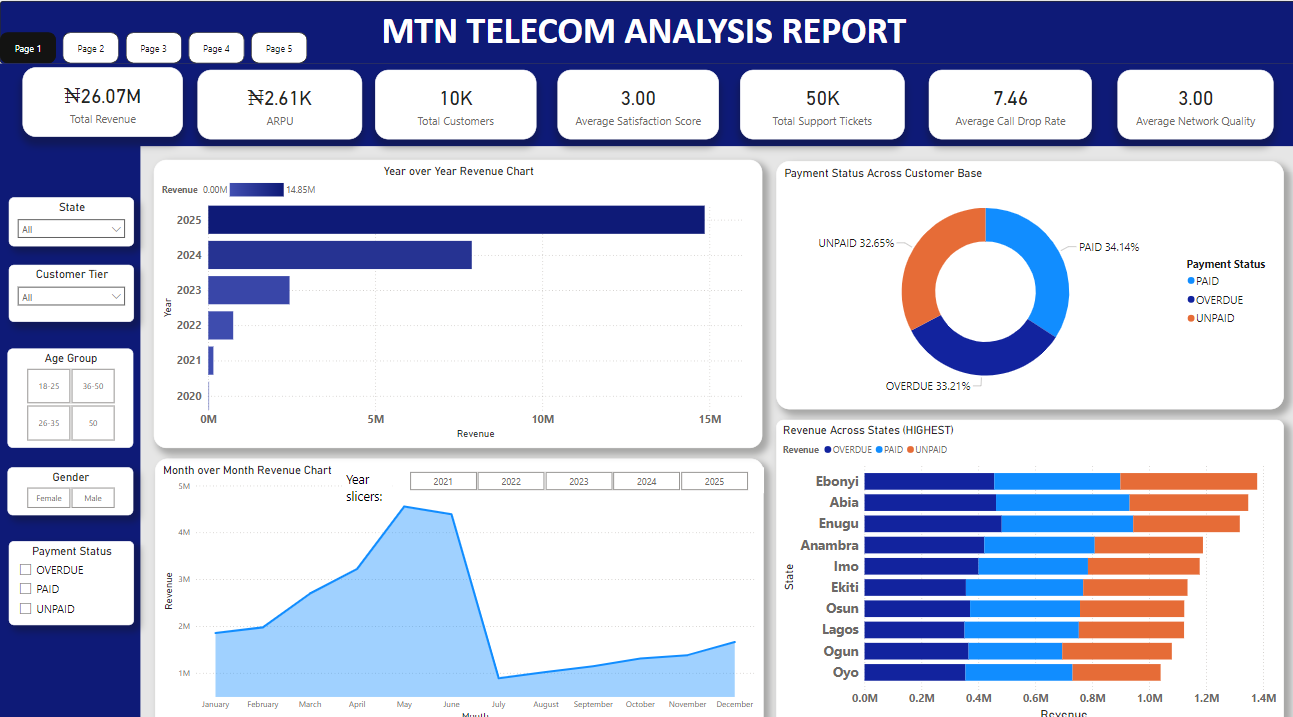

The dashboard page shown, as its layout file describes it:
{"tool":"powerbi","page":{"name":"Page 1","canvas":[1920,1080],"ordinal":0},"visuals":[{"type":"card","fields":{"Values":["Count(mtn_final_telecom_cleaned_data (2).customer_id)"]},"box":[555.4,101.1,239,103],"z":0,"group":"g1"},{"type":"donutChart","title":"Payment Status Across Customer Base","fields":{"Y":["Count(mtn_final_telecom_cleaned_data (2).customer_id)"],"Category":["mtn_final_telecom_cleaned_data (2).payment_status"]},"box":[1149.6,236.8,751.8,368.1],"z":0},{"type":"textbox","box":[0,0,1920.4,92.8],"z":1000},{"type":"card","fields":{"Values":["Sum(mtn_final_telecom_cleaned_data (2).bill_amount)"]},"box":[32.7,98,237.8,103],"z":1000,"group":"g1"},{"type":"card","fields":{"Values":["Avg(mtn_final_telecom_cleaned_data (2).customer_satisfaction)"]},"box":[825.4,101.1,239,103],"z":2000,"group":"g1"},{"type":"textbox","box":[0,189.6,207.8,889.6],"z":2000},{"type":"card","fields":{"Values":["Avg(mtn_final_telecom_cleaned_data (2).network_quality_score)"]},"box":[1655.8,101.1,231.4,103],"z":3000,"group":"g1"},{"type":"areaChart","title":"Month over Month Revenue Chart","fields":{"Category":["mtn_final_telecom_cleaned_data (2).billing_date.Variation.Date Hierarchy.Month"],"Y":["Sum(mtn_final_telecom_cleaned_data (2).bill_amount)"]},"box":[230.1,677.3,901.8,403.1],"z":3000},{"type":"card","fields":{"Values":["Avg(mtn_final_telecom_cleaned_data (2).call_drop_rate)"]},"box":[1375.3,101.1,241.9,103],"z":4000,"group":"g1"},{"type":"slicer","fields":{"Values":["mtn_final_telecom_cleaned_data (2).billing_date.Variation.Date Hierarchy.Year"]},"box":[581.6,690.2,550.3,38.7],"z":4000},{"type":"card","fields":{"Values":["Sum(mtn_final_telecom_cleaned_data (2).support_tickets_count)"]},"box":[1094.8,101.1,243.7,103],"z":5000,"group":"g1"},{"type":"slicer","title":"State","fields":{"Values":["mtn_final_telecom_cleaned_data (2).payment_status"]},"box":[12.1,290.5,185.6,72.6],"z":5000},{"type":"card","fields":{"Values":["mtn_final_telecom_cleaned_data (2).ARPU"]},"box":[291.3,101.9,244,103],"z":6000,"group":"g1"},{"type":"slicer","title":"Customer Tier","fields":{"Values":["mtn_final_telecom_cleaned_data (2).customer_tier"]},"box":[12.1,391.3,185.6,84.7],"z":6000},{"type":"slicer","title":"Age Group","fields":{"Values":["mtn_final_telecom_cleaned_data (2).age_group"]},"box":[10.2,515.6,186.1,147.2],"z":7000},{"type":"slicer","title":"Gender","fields":{"Values":["mtn_final_telecom_cleaned_data (2).gender"]},"box":[10.2,691.5,186.1,71.6],"z":8000},{"type":"textbox","box":[0,91.8,1920.4,122.4],"z":9000},{"type":"pageNavigator","box":[0,46.3,459.3,46.3],"z":10000},{"type":"textbox","box":[508,690.2,73.6,68.1],"z":11000},{"type":"clusteredBarChart","title":"Year over Year Revenue Chart","fields":{"Category":["mtn_final_telecom_cleaned_data (2).billing_date.Variation.Date Hierarchy.Year"],"Y":["Sum(mtn_final_telecom_cleaned_data (2).bill_amount)"]},"box":[228.2,235.6,901.8,427],"z":12000},{"type":"group","id":"g1","title":"Group 3","box":[32.7,98,1853.1,108.2],"z":13000},{"type":"slicer","title":"Payment Status","fields":{"Values":["mtn_final_telecom_cleaned_data (2).payment_status"]},"box":[12.1,800.8,185.6,125.1],"z":14000},{"type":"barChart","title":"Revenue Across States (HIGHEST)","fields":{"Category":["mtn_final_telecom_cleaned_data (2).state"],"Series":["mtn_final_telecom_cleaned_data (2).payment_status"],"Y":["mtn_final_telecom_cleaned_data (2).Total Revenue"]},"box":[1149.6,620.4,751.8,457.6],"z":15000}]}

Visuals, with their boxes in screenshot pixels (x1, y1, x2, y2), scaled from the page's 1920x1080 canvas onto the 1293x717 screenshot:
card - Count(mtn_final_telecom_cleaned_data (2).customer_id): {"x1": 374, "y1": 67, "x2": 535, "y2": 135}
"Payment Status Across Customer Base" donutChart: {"x1": 774, "y1": 157, "x2": 1280, "y2": 402}
textbox: {"x1": 0, "y1": 0, "x2": 1292, "y2": 62}
card - Sum(mtn_final_telecom_cleaned_data (2).bill_amount): {"x1": 22, "y1": 65, "x2": 182, "y2": 133}
card - Avg(mtn_final_telecom_cleaned_data (2).customer_satisfaction): {"x1": 556, "y1": 67, "x2": 717, "y2": 135}
textbox: {"x1": 0, "y1": 126, "x2": 140, "y2": 716}
card - Avg(mtn_final_telecom_cleaned_data (2).network_quality_score): {"x1": 1115, "y1": 67, "x2": 1271, "y2": 135}
"Month over Month Revenue Chart" areaChart: {"x1": 155, "y1": 450, "x2": 762, "y2": 716}
card - Avg(mtn_final_telecom_cleaned_data (2).call_drop_rate): {"x1": 926, "y1": 67, "x2": 1089, "y2": 135}
slicer - mtn_final_telecom_cleaned_data (2).billing_date.Variation.Date Hierarchy.Year: {"x1": 392, "y1": 458, "x2": 762, "y2": 484}
card - Sum(mtn_final_telecom_cleaned_data (2).support_tickets_count): {"x1": 737, "y1": 67, "x2": 901, "y2": 135}
"State" slicer: {"x1": 8, "y1": 193, "x2": 133, "y2": 241}
card - mtn_final_telecom_cleaned_data (2).ARPU: {"x1": 196, "y1": 68, "x2": 360, "y2": 136}
"Customer Tier" slicer: {"x1": 8, "y1": 260, "x2": 133, "y2": 316}
"Age Group" slicer: {"x1": 7, "y1": 342, "x2": 132, "y2": 440}
"Gender" slicer: {"x1": 7, "y1": 459, "x2": 132, "y2": 507}
textbox: {"x1": 0, "y1": 61, "x2": 1292, "y2": 142}
pageNavigator: {"x1": 0, "y1": 31, "x2": 309, "y2": 61}
textbox: {"x1": 342, "y1": 458, "x2": 392, "y2": 503}
"Year over Year Revenue Chart" clusteredBarChart: {"x1": 154, "y1": 156, "x2": 761, "y2": 440}
"Group 3" group: {"x1": 22, "y1": 65, "x2": 1270, "y2": 137}
"Payment Status" slicer: {"x1": 8, "y1": 532, "x2": 133, "y2": 615}
"Revenue Across States (HIGHEST)" barChart: {"x1": 774, "y1": 412, "x2": 1280, "y2": 716}
